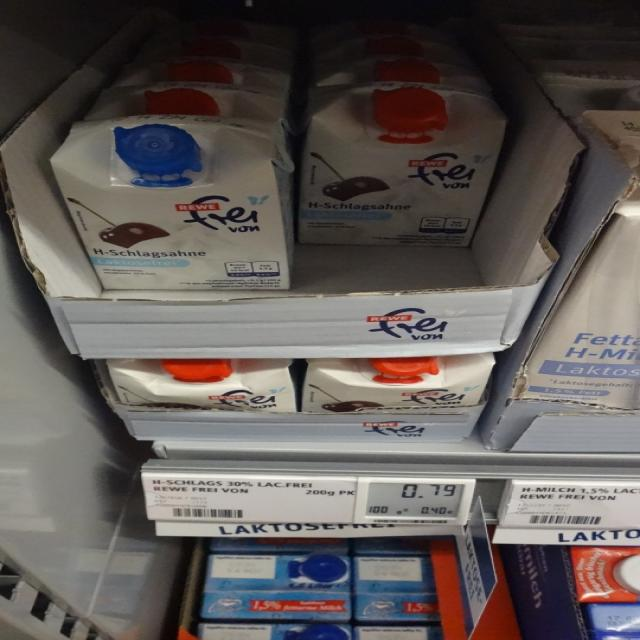Cream: (51, 115, 290, 289), (300, 81, 506, 247), (301, 353, 495, 413), (107, 358, 297, 413)
Milk carton/jug: (517, 201, 640, 409), (200, 555, 351, 623), (353, 558, 438, 623), (571, 547, 640, 603), (198, 624, 352, 640)
